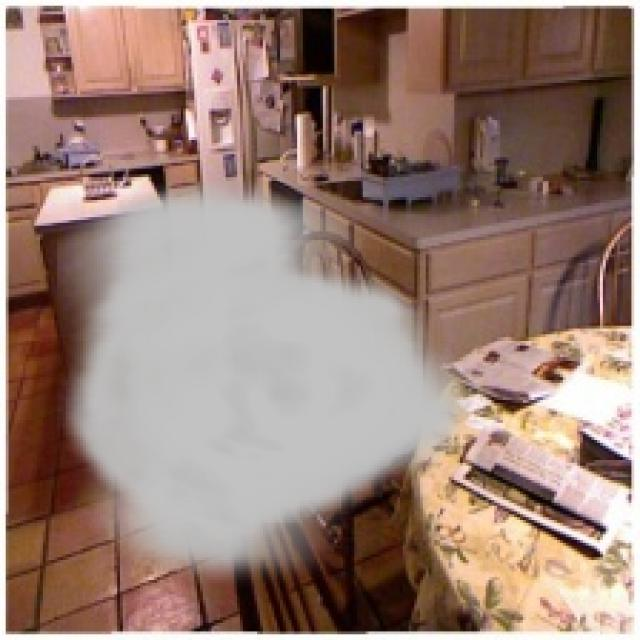smoke: (57, 177, 477, 592)
